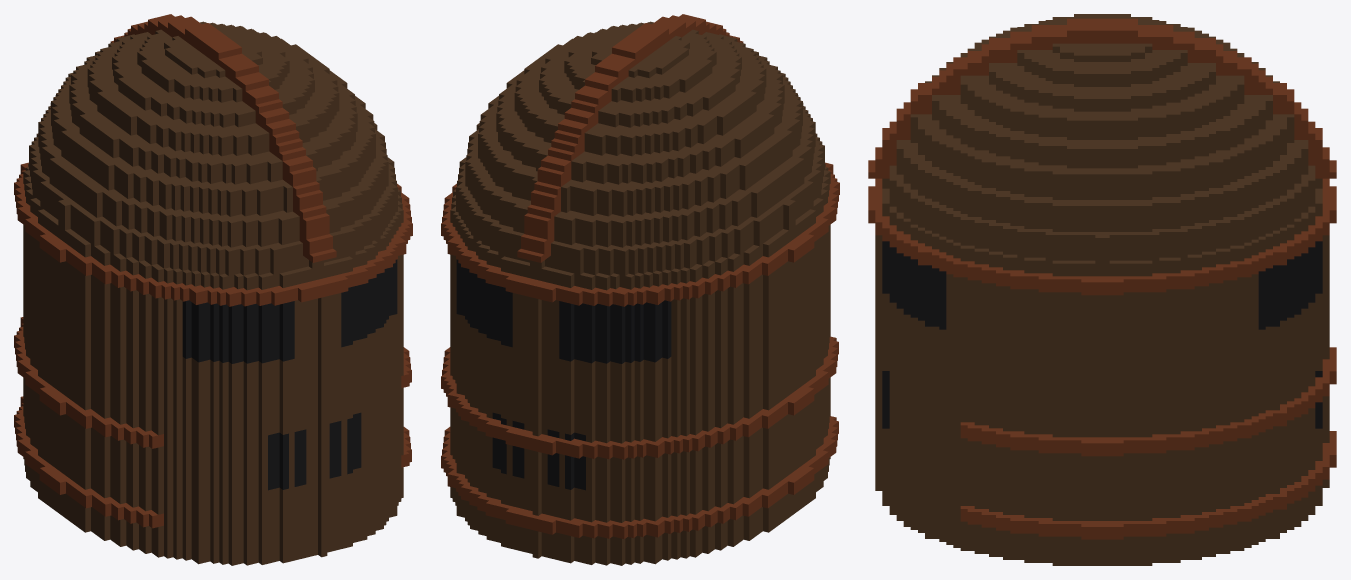
Rendered from helmet_chitin.glb.
3 views of the same model, side by side, from view 1: azimuth 30°, elevation 25°; view 2: azimuth 150°, elevation 25°; view 3: azimuth 270°, elevation 25° (orthographic). The views are drawn at different scales.
Parts seen in each view (by area): view 1: helmet_chitin:compound; view 2: helmet_chitin:compound; view 3: helmet_chitin:compound.
Part boxes in pixels (box(x1,y1,x2,y2)): helmet_chitin:compound: box(14, 14, 412, 565); helmet_chitin:compound: box(441, 14, 839, 565); helmet_chitin:compound: box(868, 14, 1336, 565).
Size of the model in its own units: 0.224 by 0.288 by 0.264.
